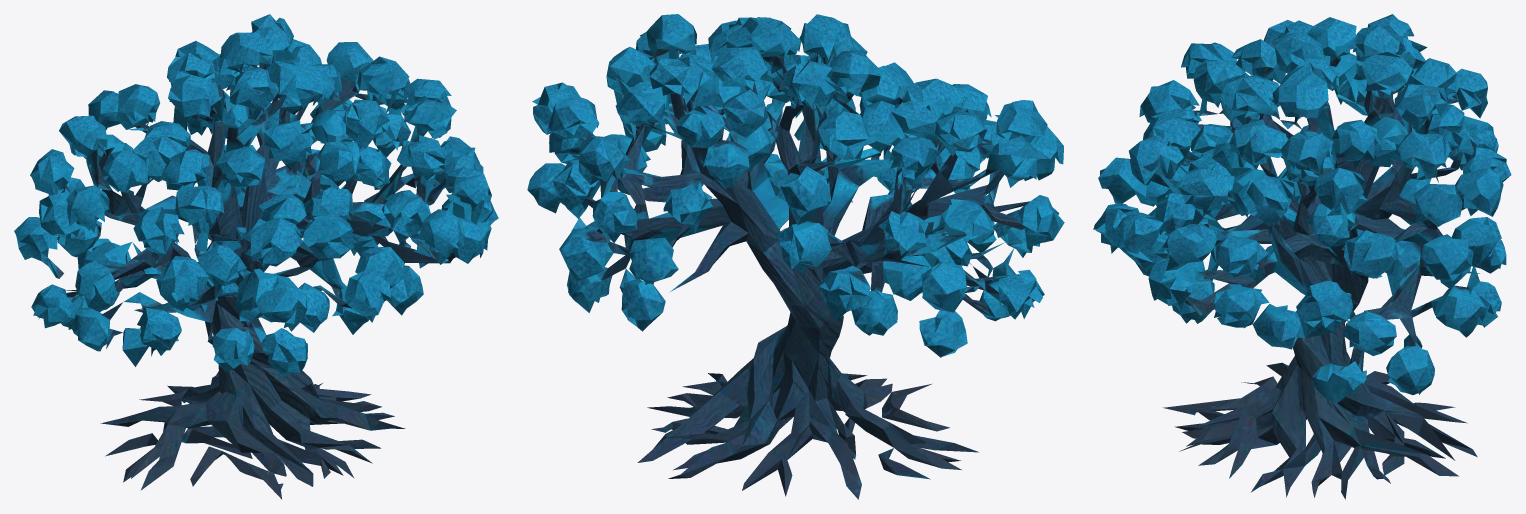
Rendered from tree.glb.
3 renders of one model, left to right at view 1: azimuth 30°, elevation 25°; view 2: azimuth 150°, elevation 25°; view 3: azimuth 270°, elevation 25°, orthographic. The views are drawn at different scales.
Bounding box in the file's own units: 1.89 × 1.54 × 1.45.
Materials: 1 (1 with a texture image).
